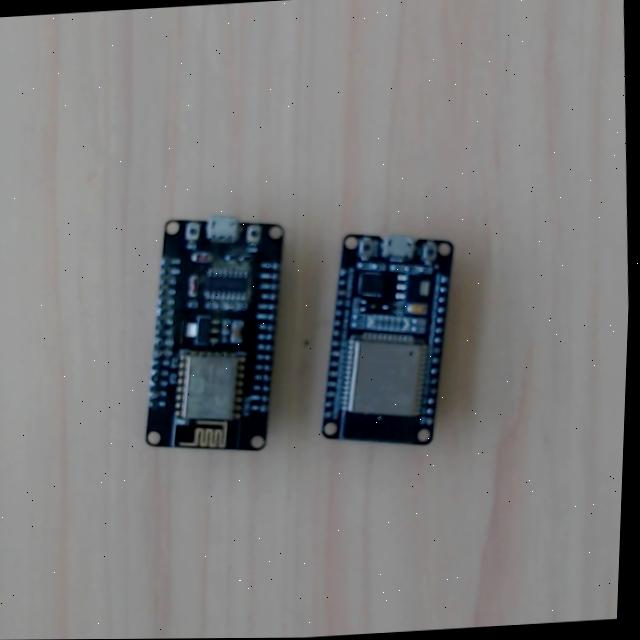ESP32-DevKit: (320, 227, 454, 449)
ESP8266-NodeMCU: (146, 210, 284, 454)
